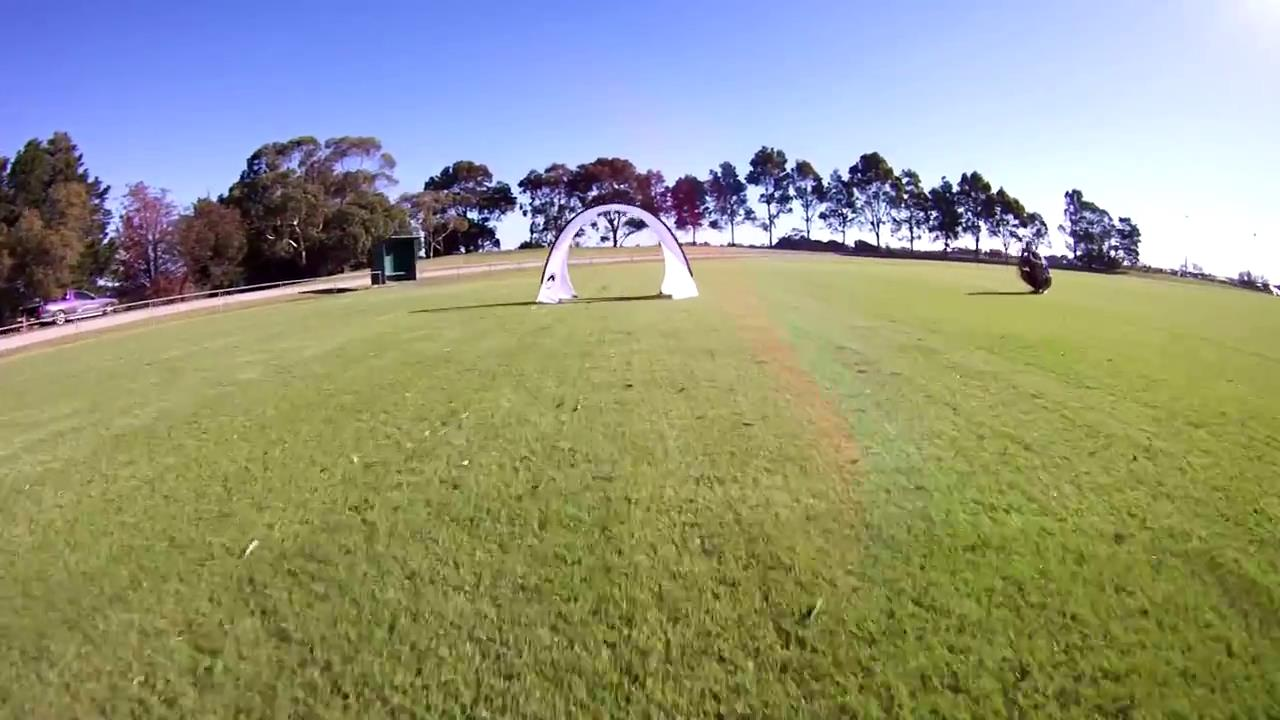gate: (532, 202, 703, 307)
